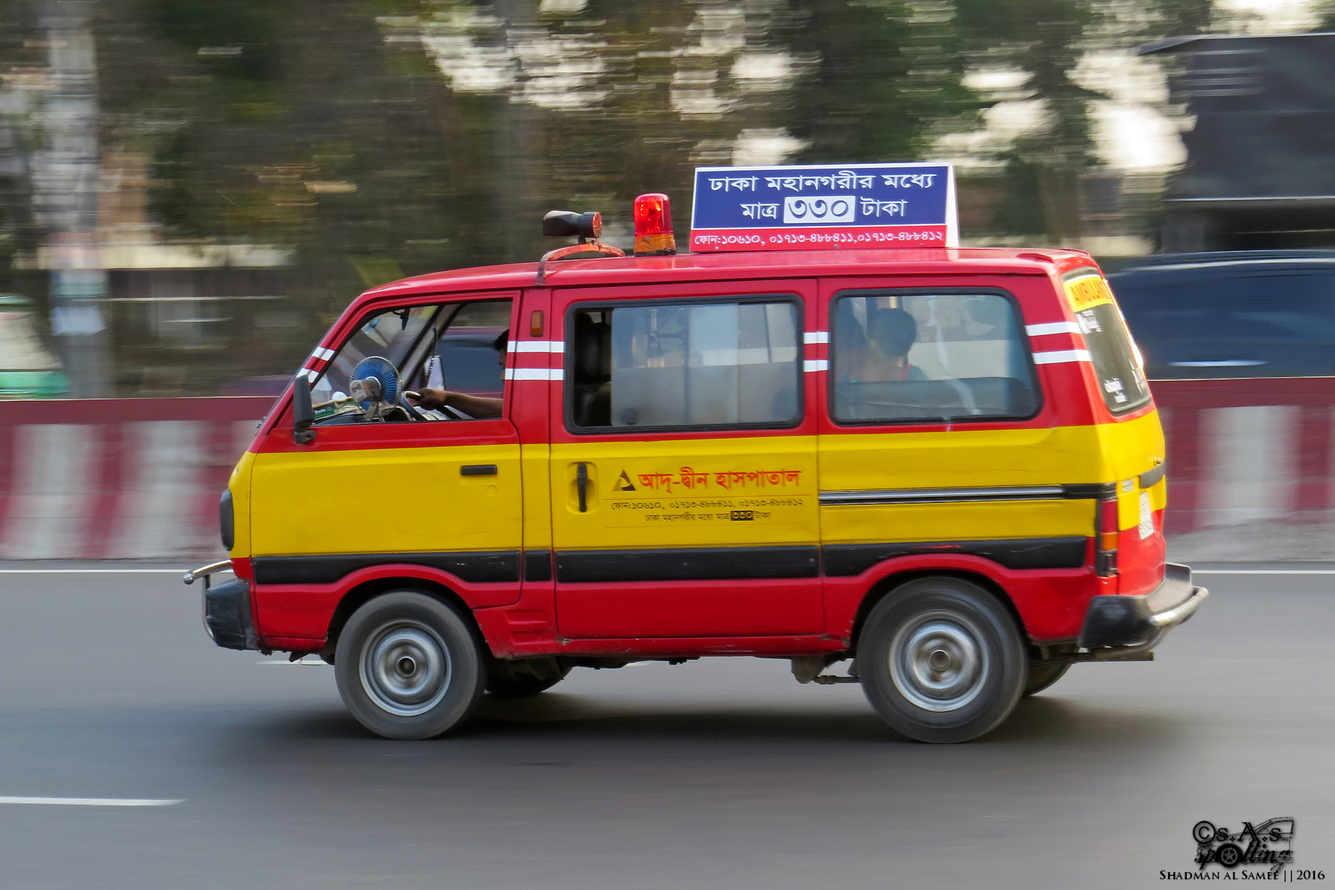Ambulance: (182, 156, 1216, 742)
